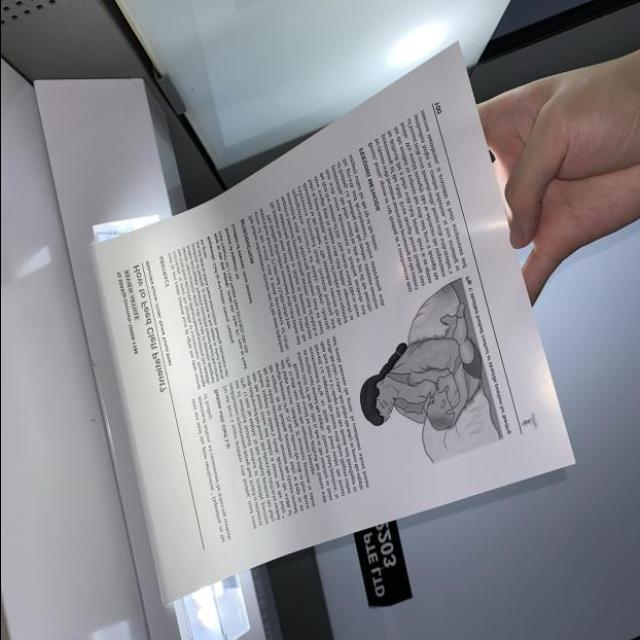kertas: (24, 43, 598, 603)
